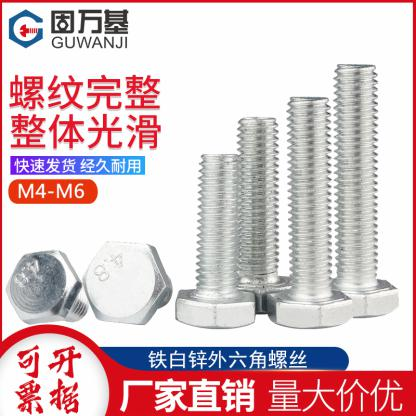FOD: (316, 61, 402, 321), (263, 95, 355, 331), (172, 148, 257, 331), (221, 113, 293, 318), (83, 237, 173, 327), (6, 246, 87, 328)
